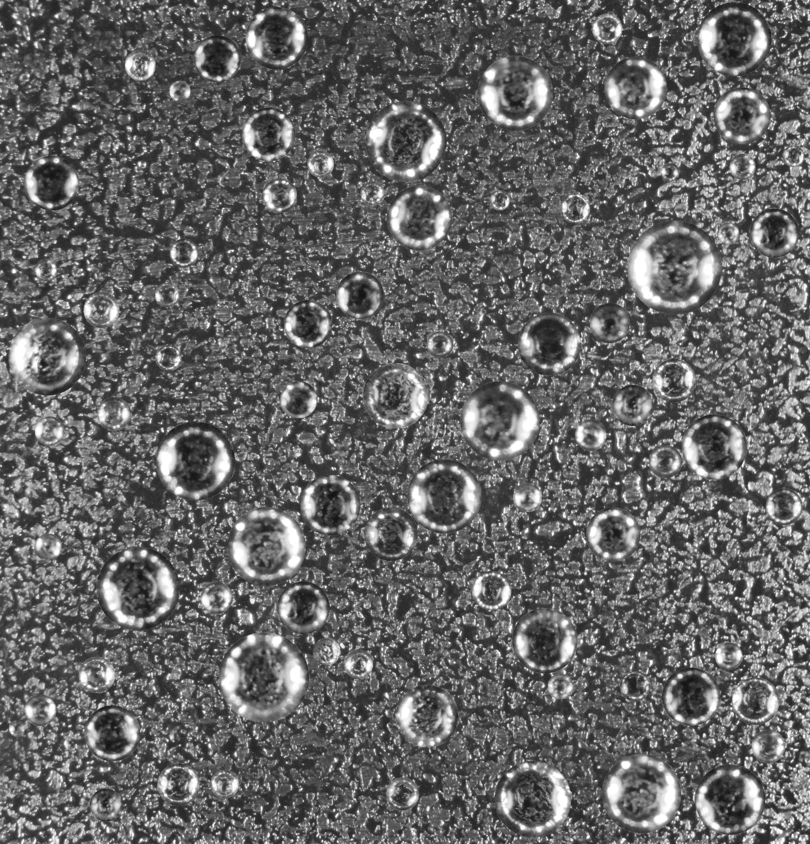Bubble: (627, 220, 721, 314), (219, 632, 308, 722), (96, 547, 179, 630), (365, 101, 446, 181), (460, 381, 539, 460), (602, 754, 681, 833), (156, 421, 234, 500), (227, 507, 305, 585), (8, 318, 85, 395), (494, 761, 571, 837), (478, 55, 552, 130), (697, 2, 771, 76), (407, 459, 481, 533), (695, 764, 765, 834), (512, 608, 577, 673), (363, 363, 428, 428), (681, 414, 746, 479), (387, 185, 451, 250), (604, 56, 666, 119), (518, 312, 580, 375), (395, 685, 458, 747), (245, 7, 307, 69), (300, 475, 360, 535), (662, 667, 720, 725), (713, 87, 770, 144), (84, 705, 140, 761), (24, 155, 78, 210), (586, 507, 640, 561), (241, 107, 295, 161), (364, 507, 417, 560), (277, 581, 329, 634), (750, 208, 799, 257), (284, 300, 332, 348), (336, 271, 383, 318), (732, 677, 779, 724), (193, 35, 240, 82), (652, 358, 695, 402), (157, 763, 199, 805), (612, 384, 653, 425), (589, 303, 629, 343), (472, 571, 511, 610), (280, 381, 317, 418), (765, 488, 802, 525), (78, 656, 114, 693), (83, 292, 119, 327), (262, 178, 296, 212), (751, 729, 785, 763), (97, 397, 130, 430), (649, 445, 682, 478), (386, 777, 419, 810), (89, 788, 122, 821), (24, 694, 56, 726), (200, 582, 232, 613), (575, 419, 606, 450), (124, 49, 155, 80), (560, 193, 590, 223), (592, 13, 622, 43), (620, 671, 650, 701), (343, 649, 373, 678), (34, 416, 64, 445), (169, 238, 198, 267), (210, 770, 238, 798), (513, 483, 541, 511), (715, 642, 742, 670), (313, 638, 340, 665), (34, 533, 61, 560), (307, 150, 333, 177), (426, 331, 453, 357), (729, 153, 755, 179), (155, 345, 181, 371), (547, 673, 573, 699), (155, 282, 179, 307), (360, 181, 384, 205), (717, 222, 739, 244), (782, 145, 804, 166), (35, 259, 56, 281), (169, 80, 190, 101), (489, 190, 509, 210), (661, 163, 679, 181), (8, 720, 24, 736)
